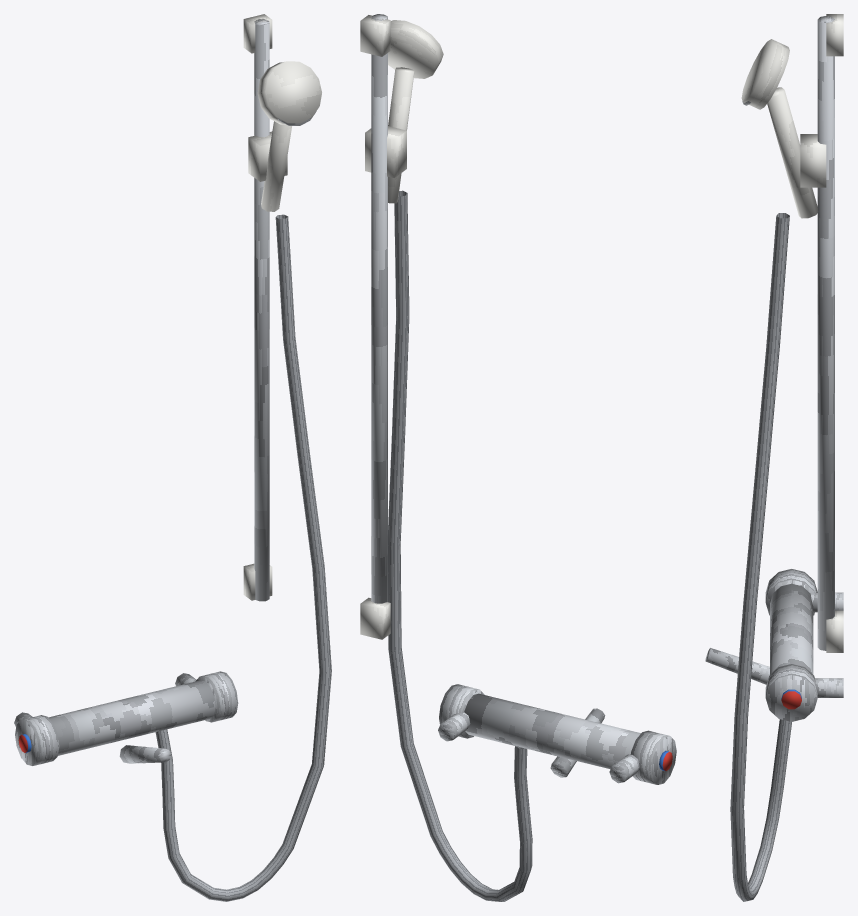
Rendered from shower.glb.
3 renders of one model, left to right at view 1: azimuth 30°, elevation 25°; view 2: azimuth 150°, elevation 25°; view 3: azimuth 270°, elevation 25°, orthographic. The views are drawn at different scales.
Visible parts, largest first — view 1: Cylinder; view 2: Cylinder; view 3: Cylinder.
Part boxes in pixels (<box>): Cylinder: <box>14,14,331,901</box>; Cylinder: <box>360,14,676,901</box>; Cylinder: <box>705,14,843,901</box>.
Size of the model in its own units: 0.4132 by 1.16 by 0.1599.
Materials: 4 (4 with a texture image).
